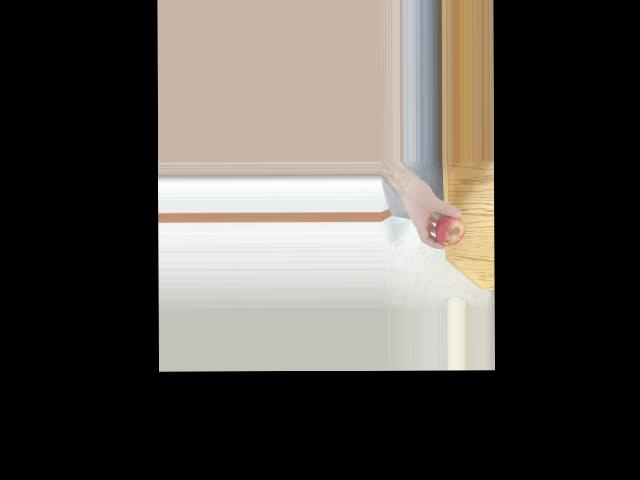apple: (432, 211, 464, 246)
